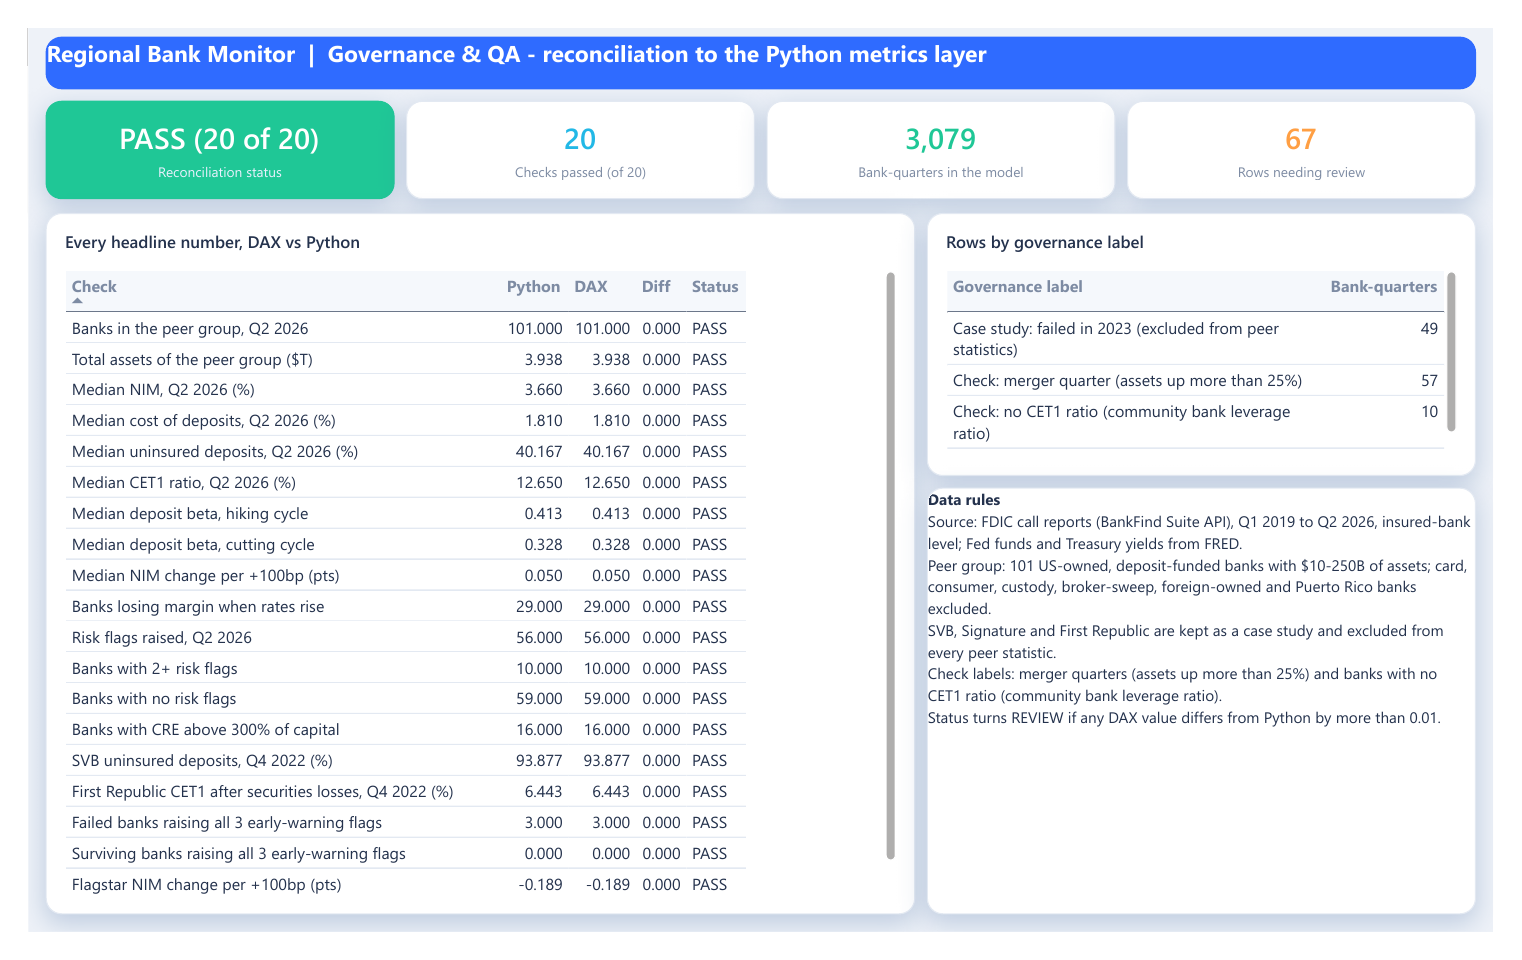

The page's visual inventory and layout, read from the dashboard file:
{"tool":"powerbi","page":{"name":"Governance & QA","canvas":[1280,790],"ordinal":1},"visuals":[{"type":"textbox","box":[15,8,1250,46],"z":1000},{"type":"card","fields":{"Values":["_Measures.Reconciliation Status"]},"box":[15,64,305,86],"z":2000},{"type":"card","fields":{"Values":["_Measures.Checks Passed"]},"box":[330,64,305,86],"z":3000},{"type":"card","fields":{"Values":["_Measures.Fact Rows"]},"box":[645,64,305,86],"z":4000},{"type":"card","fields":{"Values":["_Measures.Rows Needing Review"]},"box":[960,64,305,86],"z":5000},{"type":"tableEx","title":"Every headline number, DAX vs Python","fields":{"Values":["Reconciliation.check","_Measures.Python Value","_Measures.DAX Value","_Measures.Difference","_Measures.Check Status"]},"box":[15,162,760,613],"z":6000},{"type":"tableEx","title":"Rows by governance label","fields":{"Values":["Quarterly.governance_label","_Measures.Fact Rows"]},"box":[785,162,480,230],"z":7000},{"type":"textbox","box":[785,402,480,373],"z":8000}]}

Visuals, with their boxes in screenshot pixels (x1, y1, x2, y2), scaled from the page's 1280x790 canvas onto the 1522x960 screenshot:
textbox: 18:10:1504:66
card - _Measures.Reconciliation Status: 18:78:380:182
card - _Measures.Checks Passed: 392:78:755:182
card - _Measures.Fact Rows: 767:78:1130:182
card - _Measures.Rows Needing Review: 1142:78:1504:182
"Every headline number, DAX vs Python" tableEx: 18:197:922:942
"Rows by governance label" tableEx: 933:197:1504:476
textbox: 933:489:1504:942
